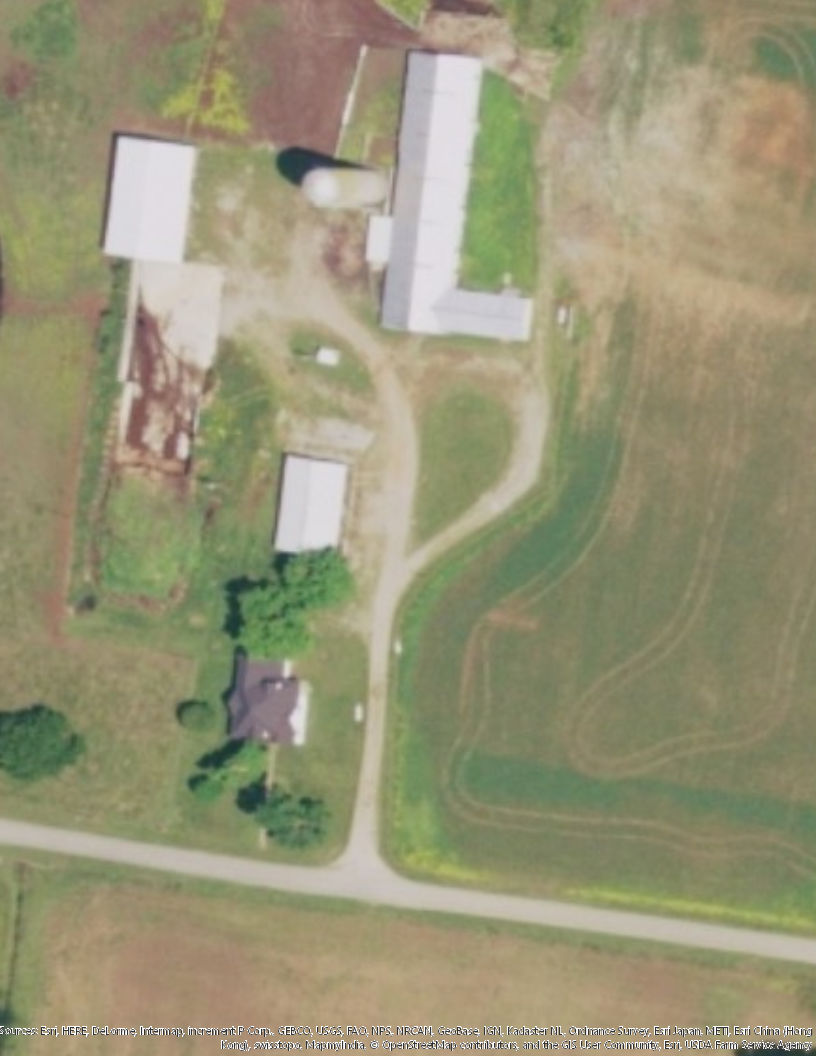cafo: (381, 10, 561, 366)
